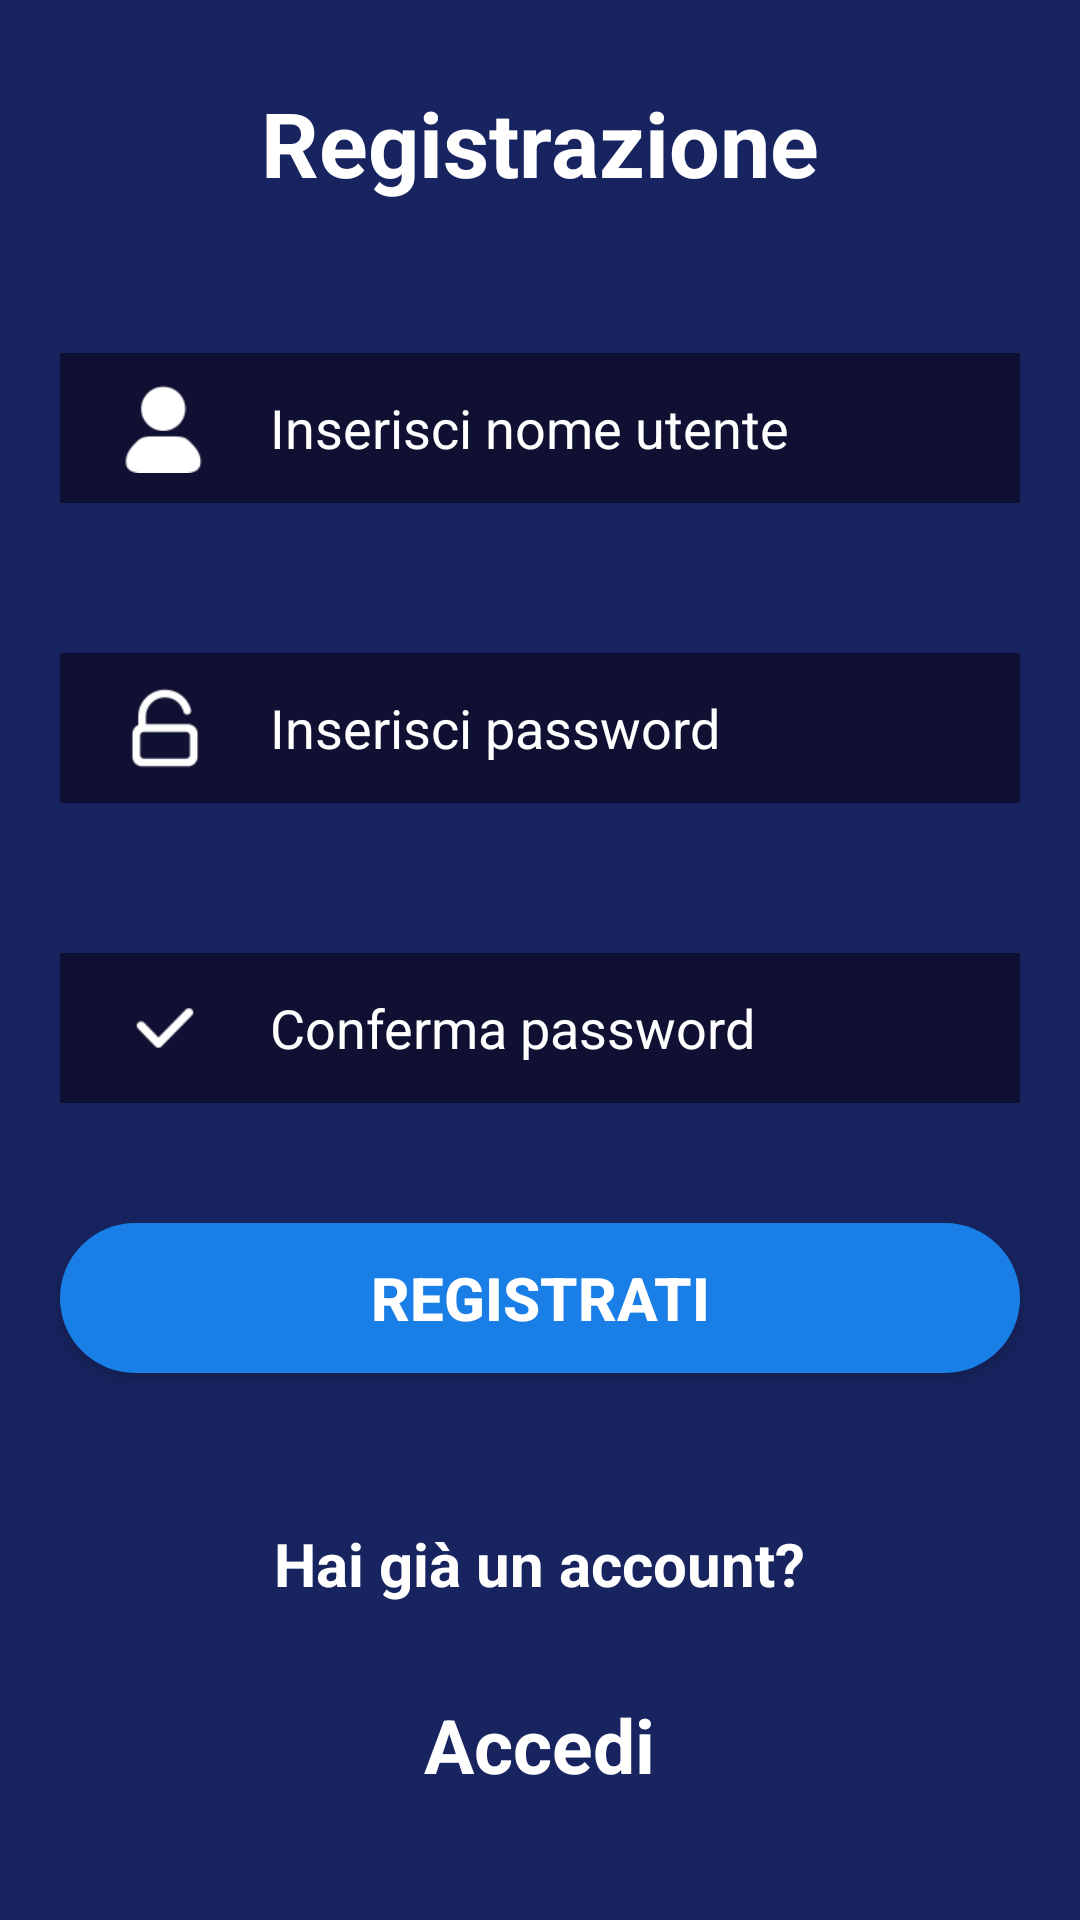

Named icons in this screenshot (1080*1920) and their bounding boxes, (x1, y1, x2, y2):
tick: (136, 1008, 194, 1048)
username: (125, 386, 202, 473)
